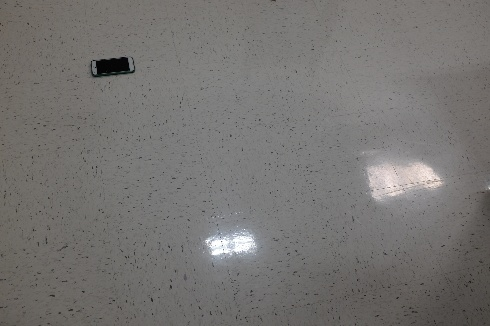phone: (91, 49, 140, 81)
